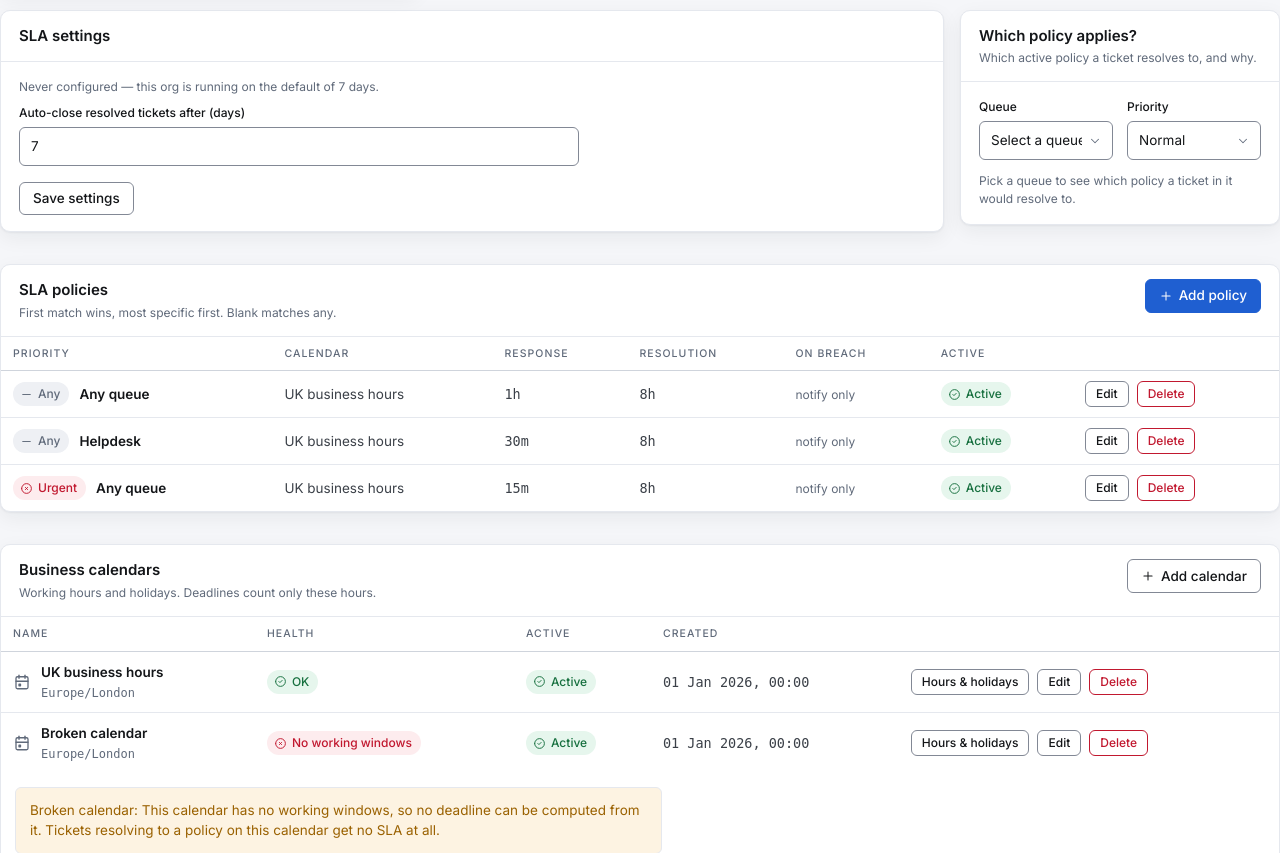
Test: the weekly working-window editor › renders a midnight-ended window as 22:00–24:00 with its real duration
(page scrolled)
Click the 1st button "Hours & holidays" at (970, 682), box [911,669,1030,695]
(page scrolled)
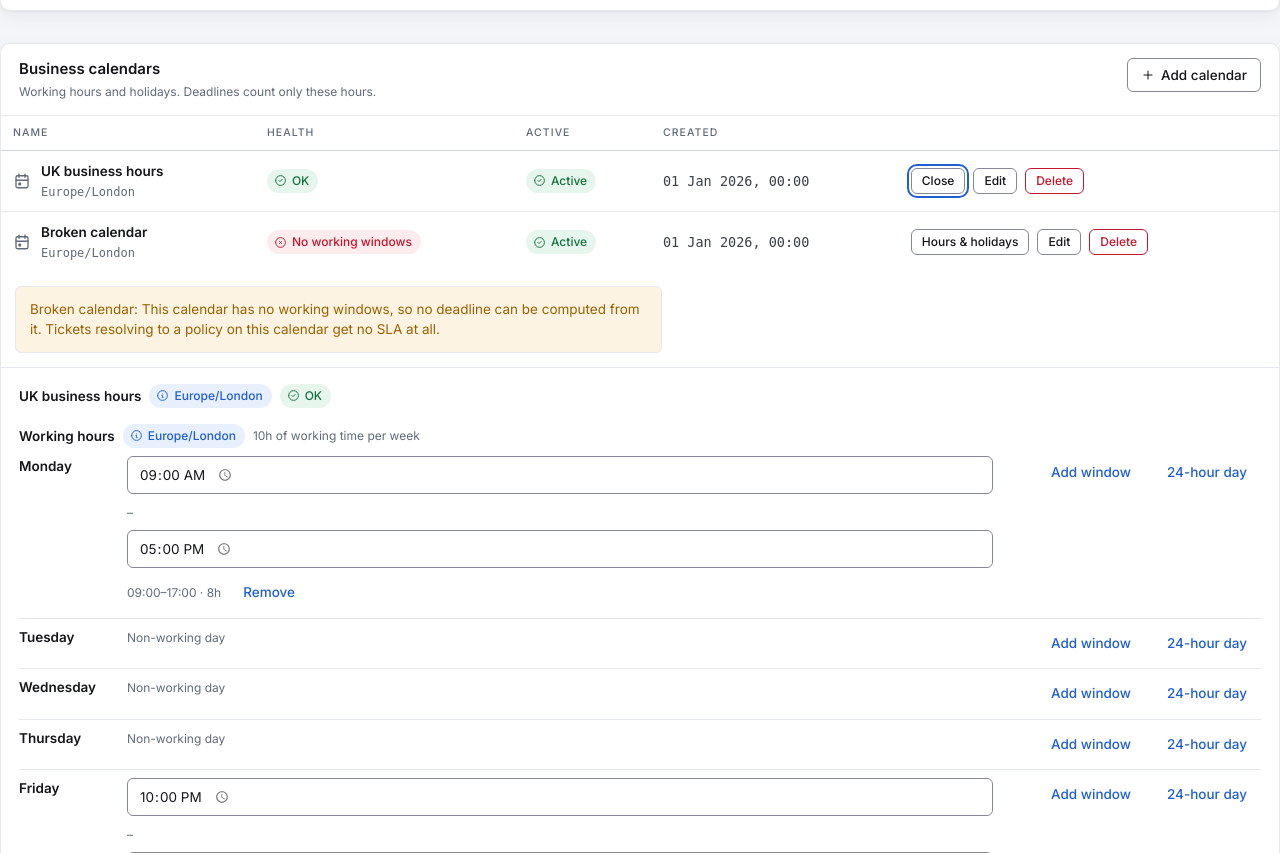
expect the heading "Working hours" is shown: met, box [19,426,115,446]
expect the text "10h of working time per week" is shown: met, box [253,427,420,445]
